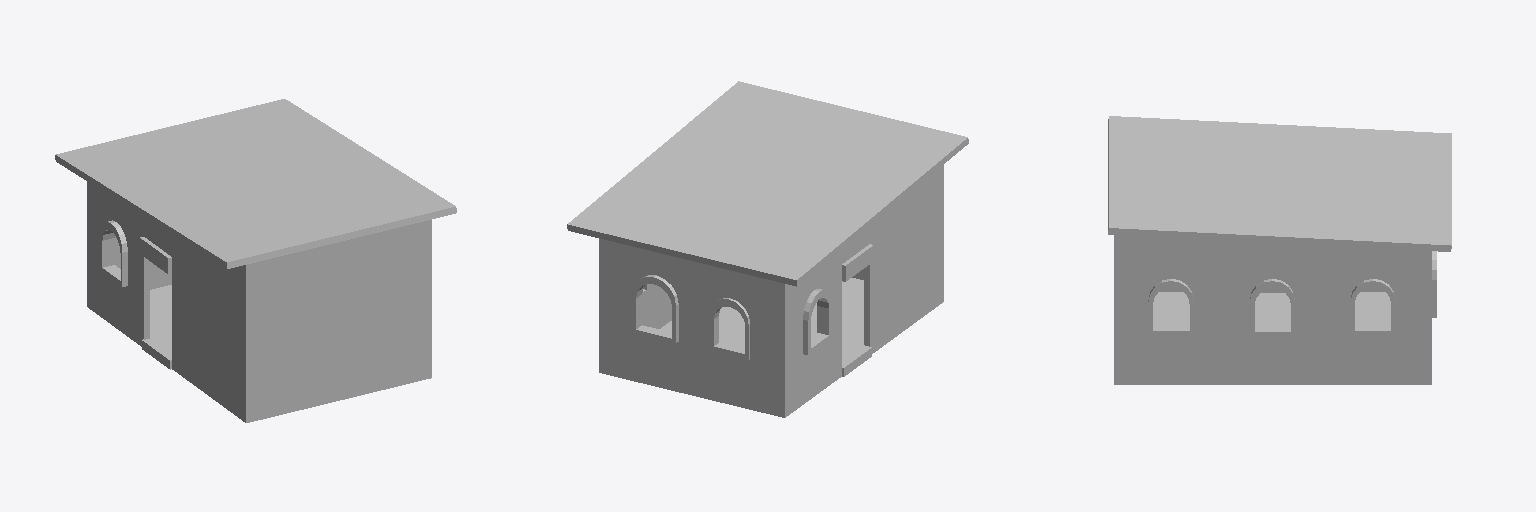
File: house2.obj
3 renders of one model, left to right at view 1: azimuth 30°, elevation 25°; view 2: azimuth 150°, elevation 25°; view 3: azimuth 270°, elevation 25°, orthographic.
Parts seen in each view (by area): view 1: house_Cube; view 2: house_Cube; view 3: house_Cube.
Boxes of the visible parts, <box> form: house_Cube: <box>55,99,456,422</box>; house_Cube: <box>567,81,968,417</box>; house_Cube: <box>1108,116,1451,384</box>.
Bounding box in the file's own units: 49.5 × 34.63 × 64.17.